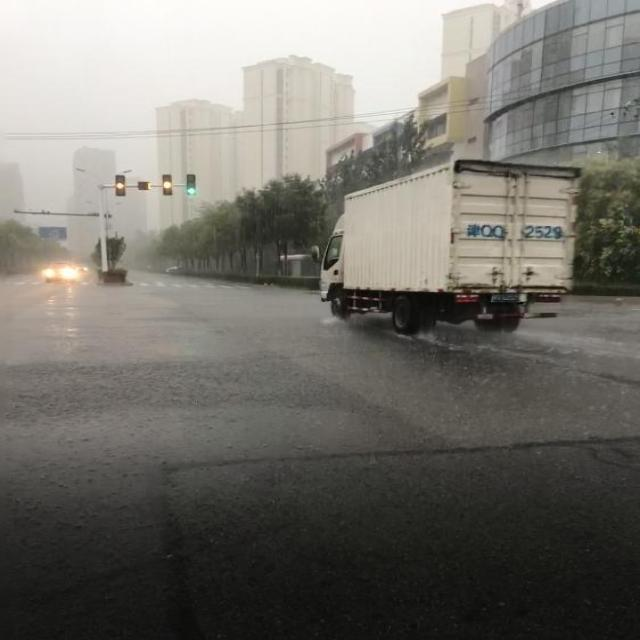car: (312, 156, 580, 334), (40, 260, 73, 280), (75, 261, 89, 273)
